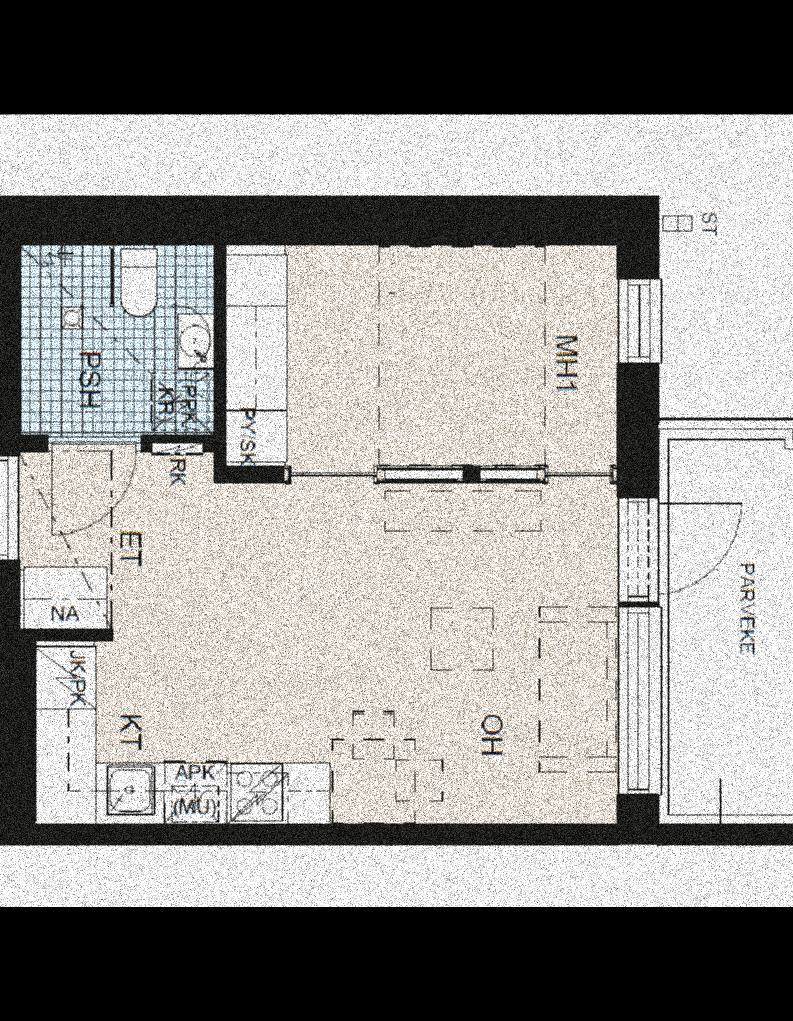door: (48, 432, 142, 535), (649, 499, 742, 594)
window: (616, 613, 659, 789), (617, 491, 654, 603), (619, 273, 657, 369)
zone: (22, 445, 625, 823), (226, 242, 612, 477), (652, 433, 793, 828), (36, 247, 219, 432)
